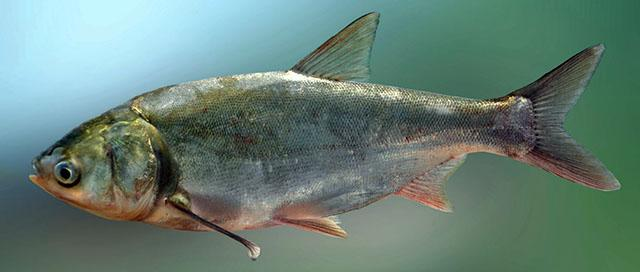Mulut: (16, 144, 59, 208)
Sirip Anal: (392, 149, 478, 221)
Sirip Ekor: (506, 34, 628, 200), (157, 190, 271, 264)
Sirip Perut: (272, 201, 350, 245)
Sirip Punggung: (286, 2, 386, 90)
